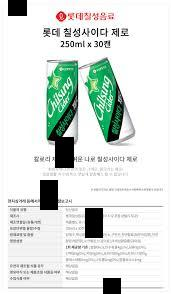chilsungcider_zero: (47, 57, 78, 147)
